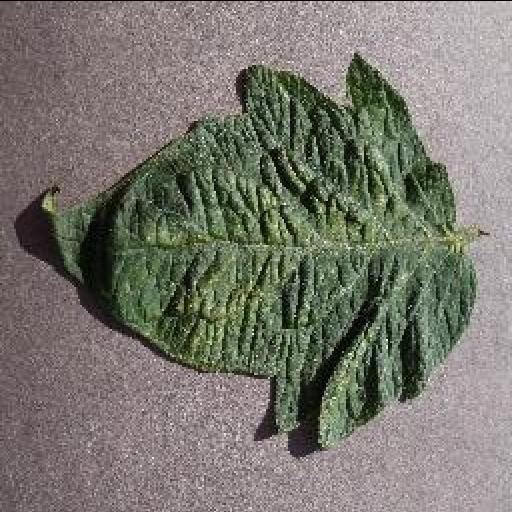disease_tomato: (36, 53, 478, 447)
